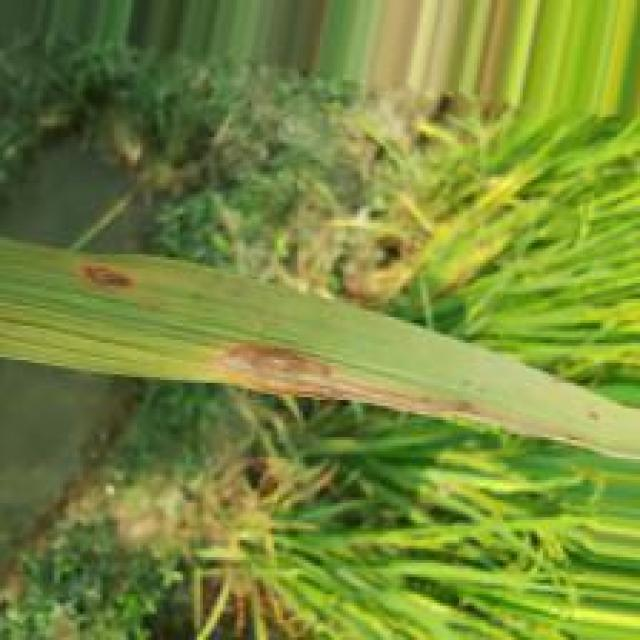Rice Tungro: (205, 337, 542, 432)
